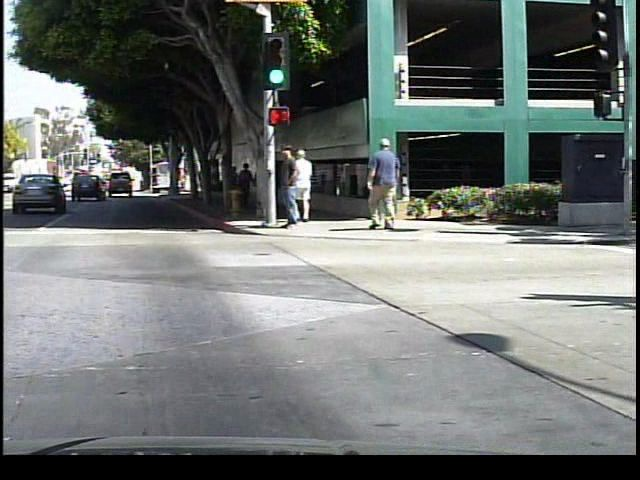person: (359, 135, 407, 233), (274, 143, 304, 235), (289, 145, 320, 221), (237, 160, 254, 207)
